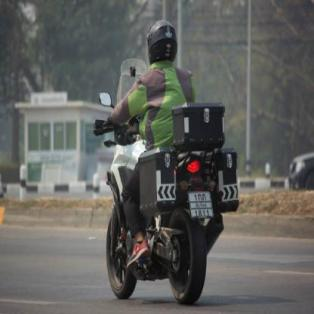Motocicleta: (88, 97, 231, 305)
